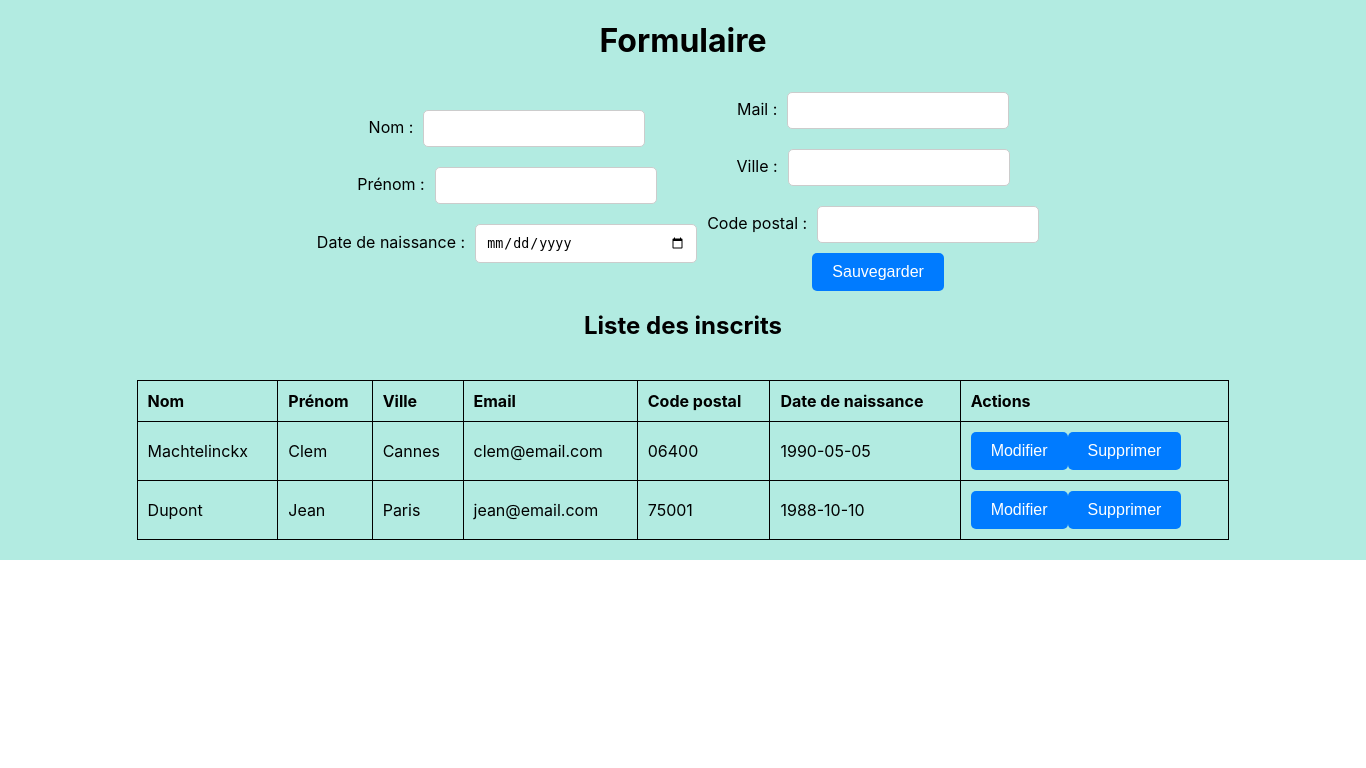
Test: Form › can cancel admin edit mode
This screenshot has width=1366, height=768.
Click the button "Modifier" in the row of "Machtelinckx": coordinates (1019, 451) 971,432 -> 1068,470
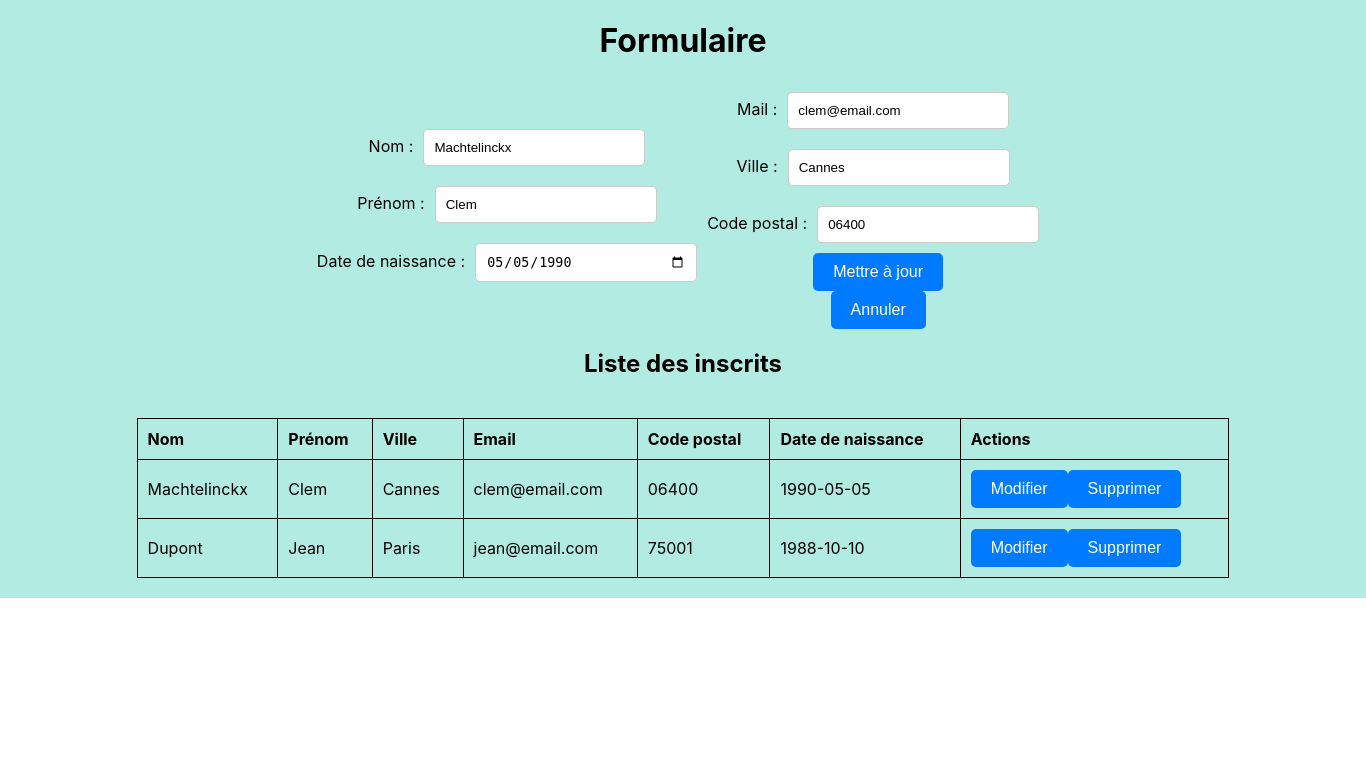
Click the button "Annuler": coordinates (878, 310) 831,291 -> 926,329
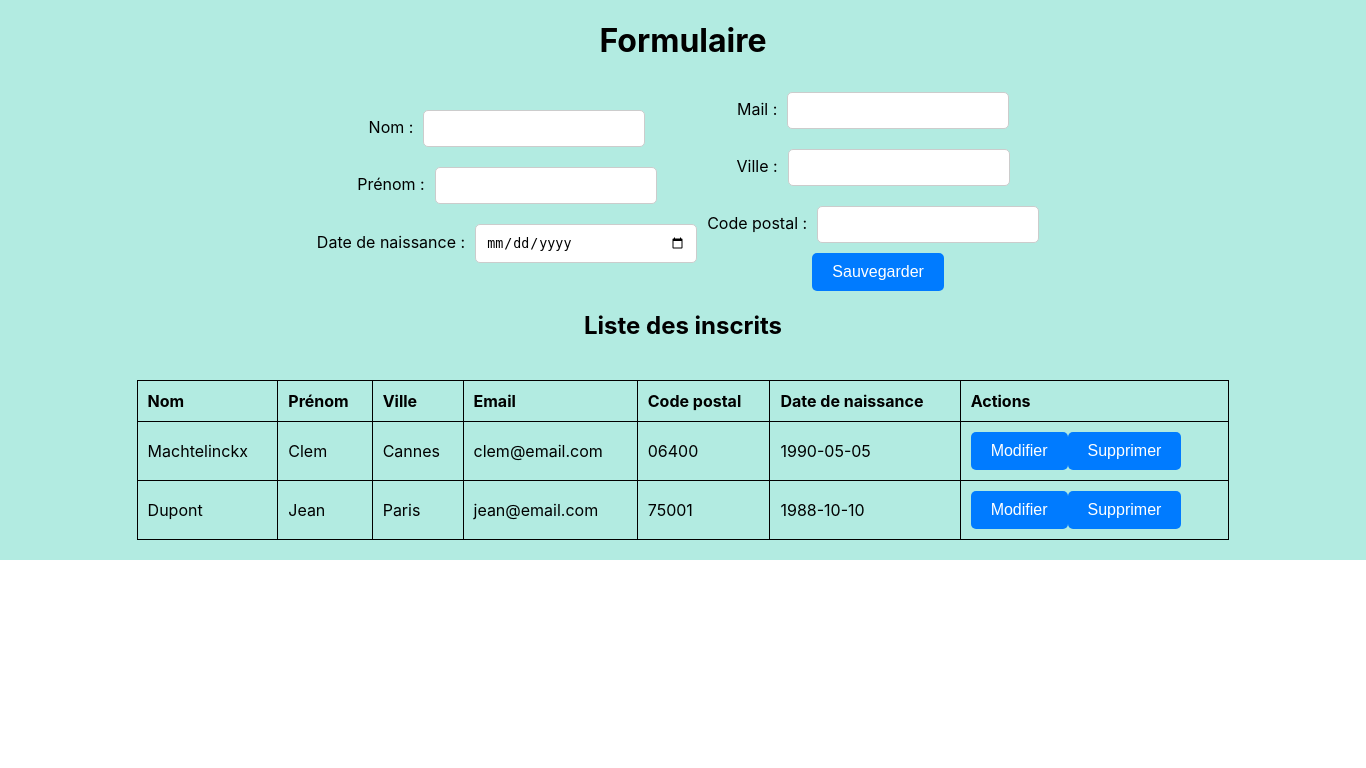
Now the field labelled "Nom :" is empty, box 423,110 -> 645,147
Now the button "Annuler" is gone
Now the button showing "sauvegarder" is disabled, box 812,253 -> 944,291
